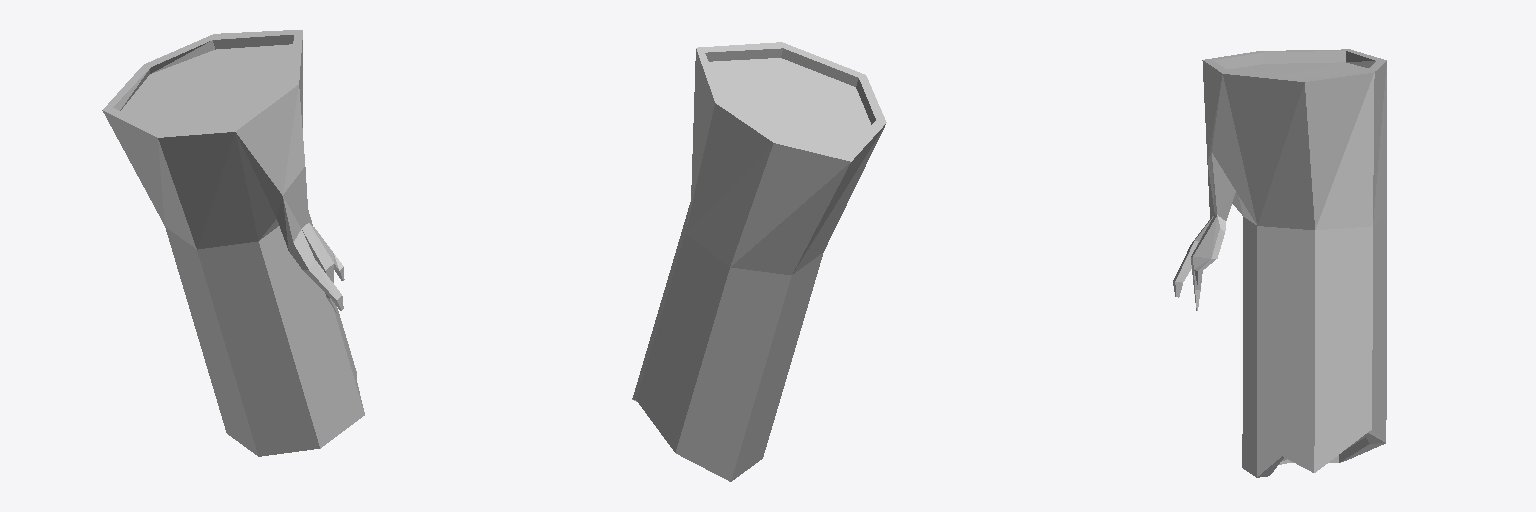
The model's file is trunk_2.obj.
The picture shows the model from 3 angles: view 1: azimuth 30°, elevation 25°; view 2: azimuth 150°, elevation 25°; view 3: azimuth 270°, elevation 25°; orthographic projection.
Parts seen in each view (by area): view 1: Cylinder.005; view 2: Cylinder.005; view 3: Cylinder.005.
Boxes of the visible parts, box(x1,y1,x2,y2) form: Cylinder.005: box(102, 30, 364, 456); Cylinder.005: box(632, 42, 886, 481); Cylinder.005: box(1173, 49, 1386, 477).
Bounding box in the file's own units: 2.21 × 3.62 × 1.73.